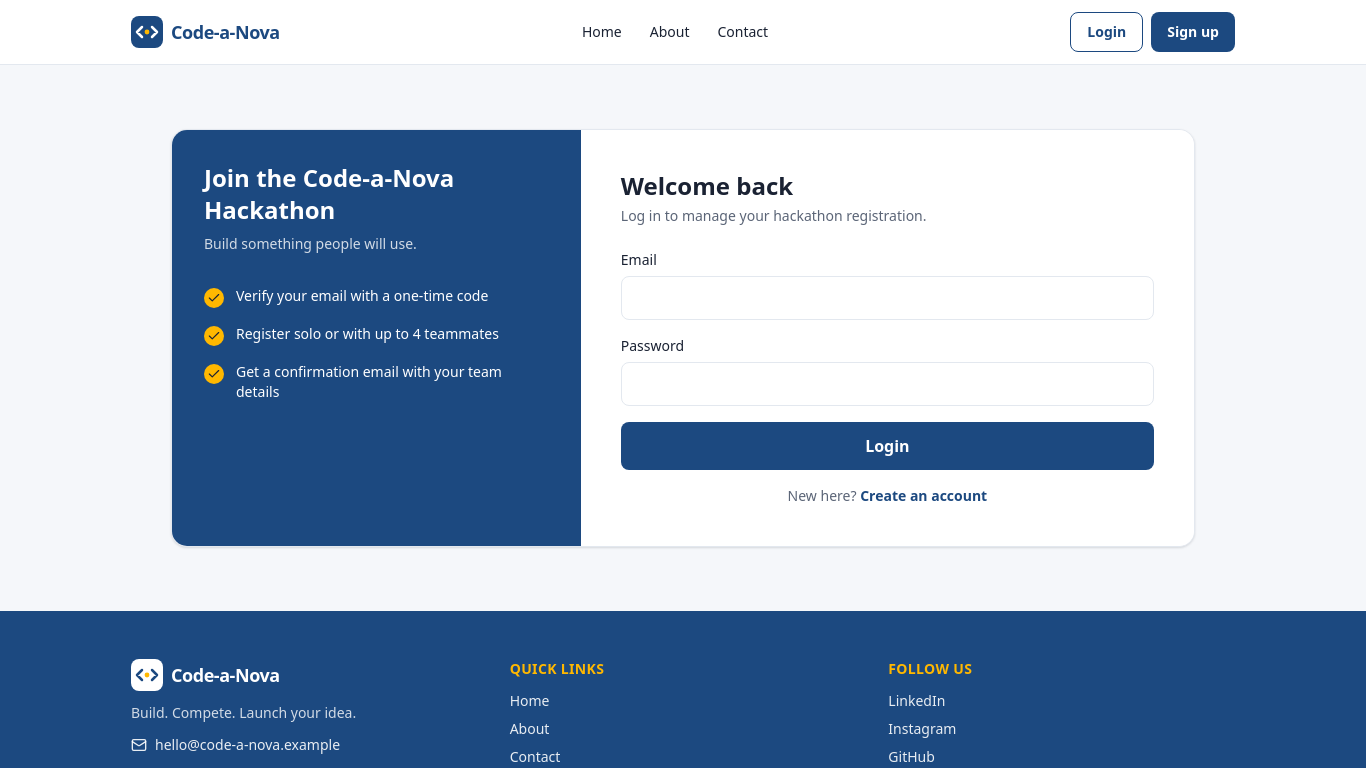
it: login, guards and dashboard › login success lands on the dashboard with a Register Now CTA when not registered
Type "aanya@example.com" into the field labelled "Email".
click(887, 298); type("aanya@example.com")  # box [621, 276, 1154, 320]
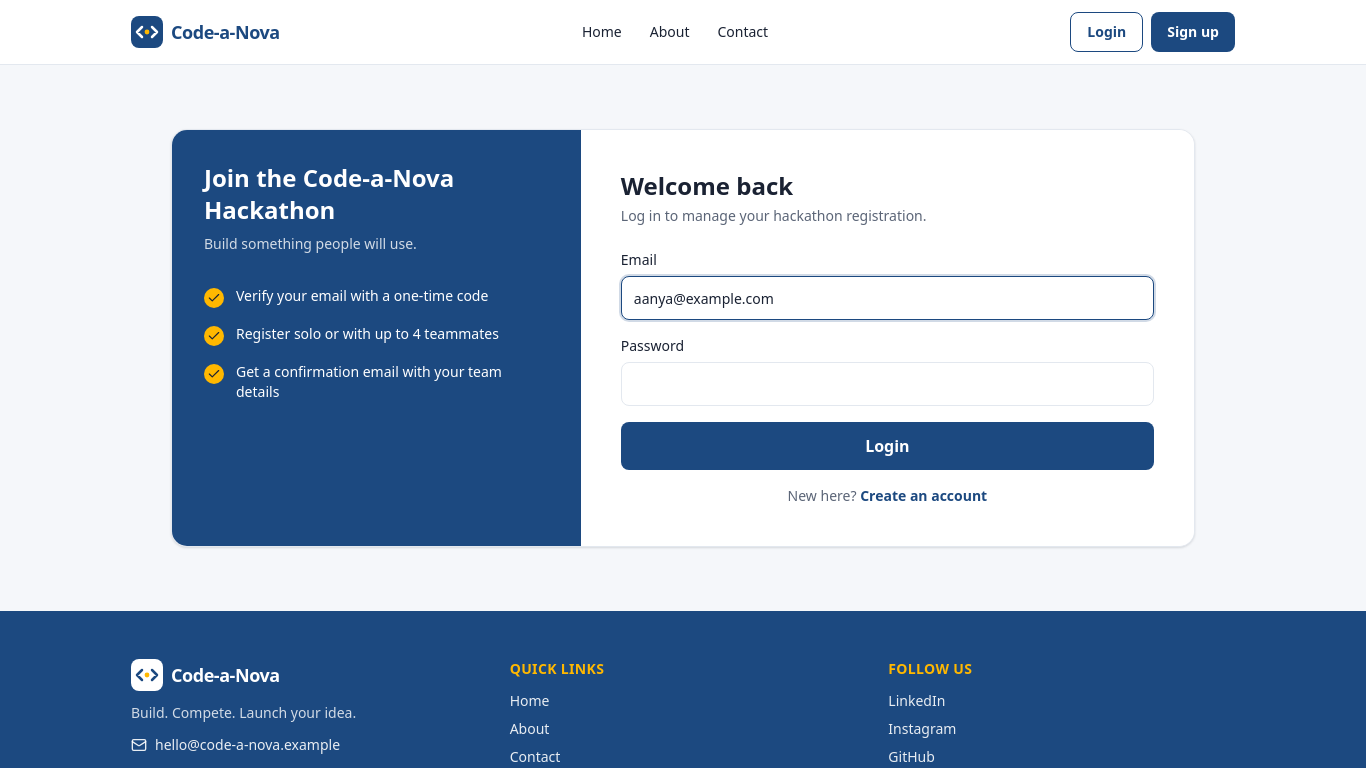
Type "Passw0rdOK" into the password field labelled "Password".
click(887, 384); type("Passw0rdOK")  # box [621, 362, 1154, 406]
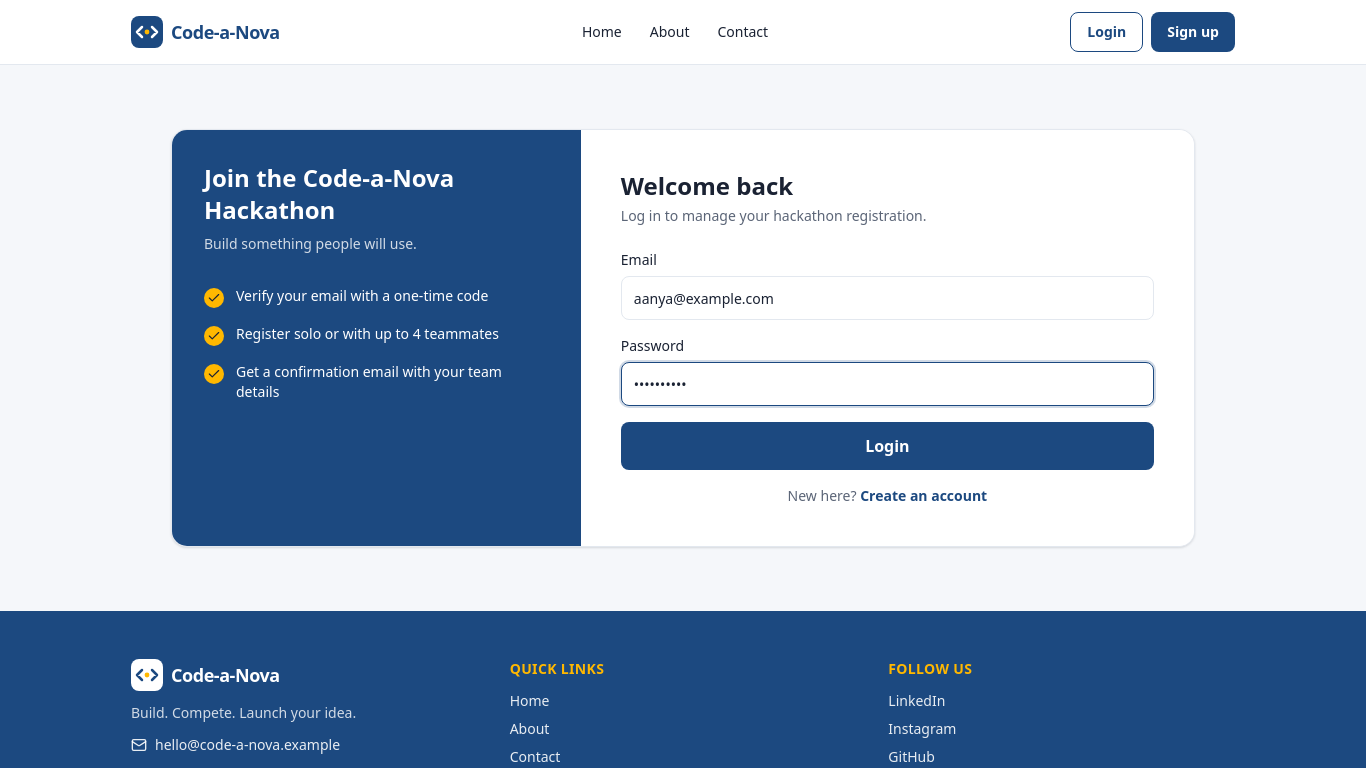
Click the button "Login".
click(887, 446)  # box [621, 422, 1154, 470]
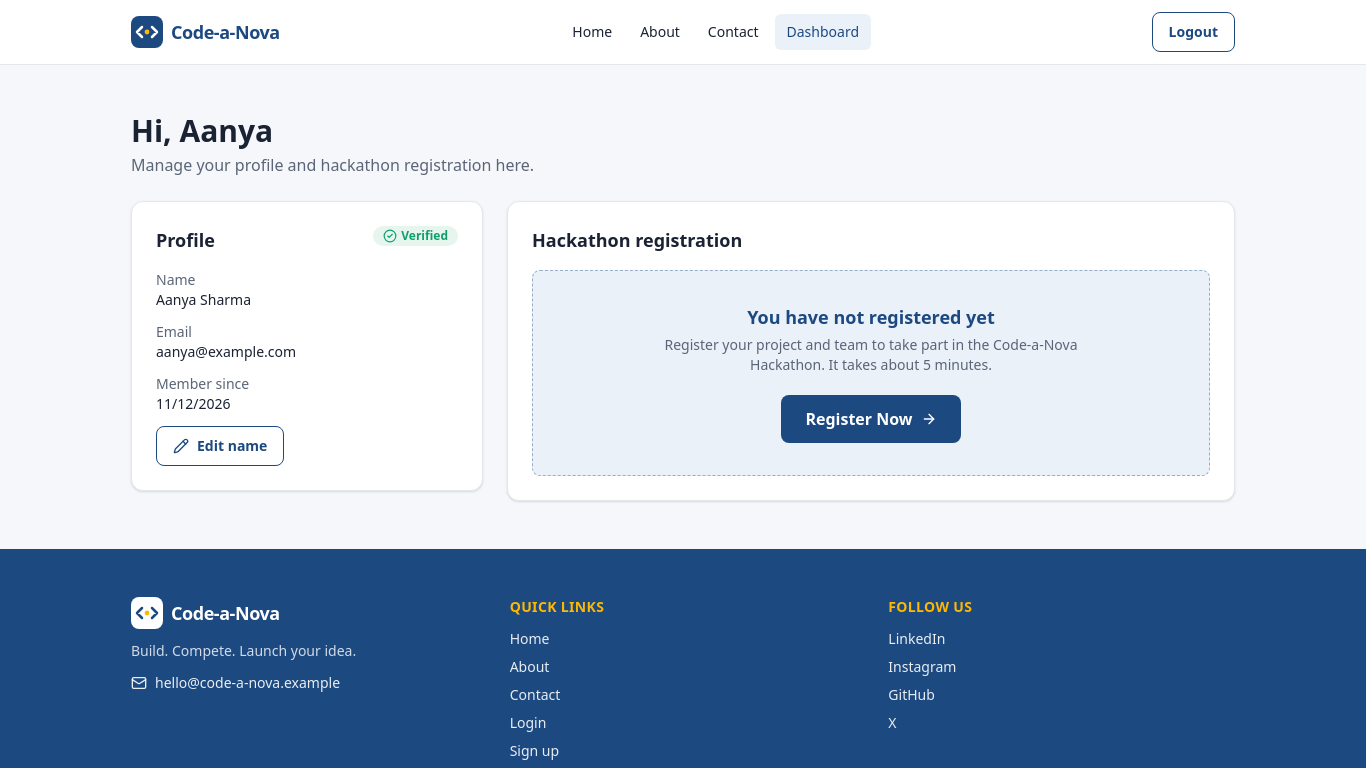
Now the heading "Hi, Aanya" is shown, box [131, 110, 273, 151]
